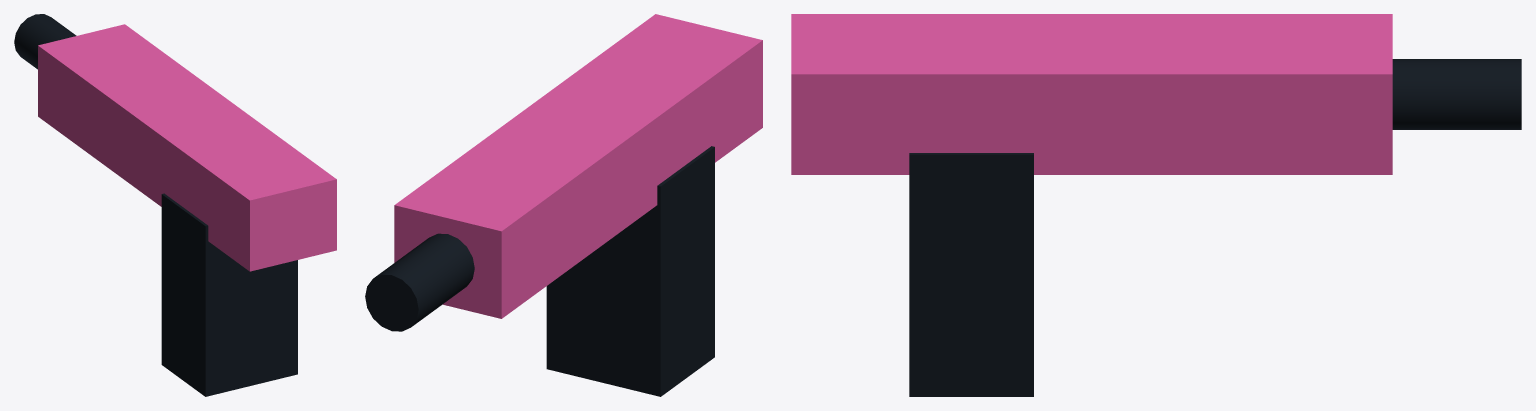
The model's file is pistol.glb.
The picture shows the model from 3 angles, left to right: view 1: azimuth 30°, elevation 25°; view 2: azimuth 150°, elevation 25°; view 3: azimuth 270°, elevation 25°; orthographic projection. The views are drawn at different scales.
Visible parts, largest first — view 1: pistol-weapon; view 2: pistol-weapon; view 3: pistol-weapon.
Part boxes in pixels (<box>): pistol-weapon: <box>14,14,336,396</box>; pistol-weapon: <box>365,14,762,396</box>; pistol-weapon: <box>791,14,1521,396</box>.
Size of the model in its own units: 0.34 by 0.795 by 1.64.
